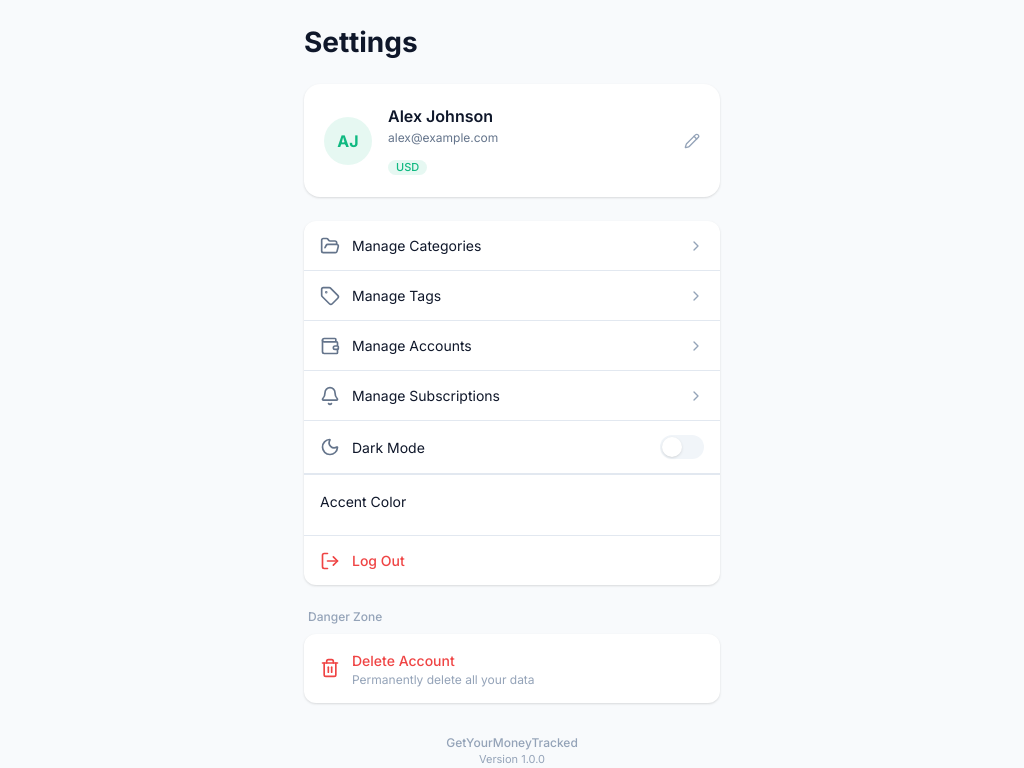
Test: SettingsPage › shows delete confirmation dialog when Delete Account is clicked
This screenshot has width=1024, height=768.
Click the button with test id "delete-account-btn". click: [403, 660]
box: [304,634,720,703]
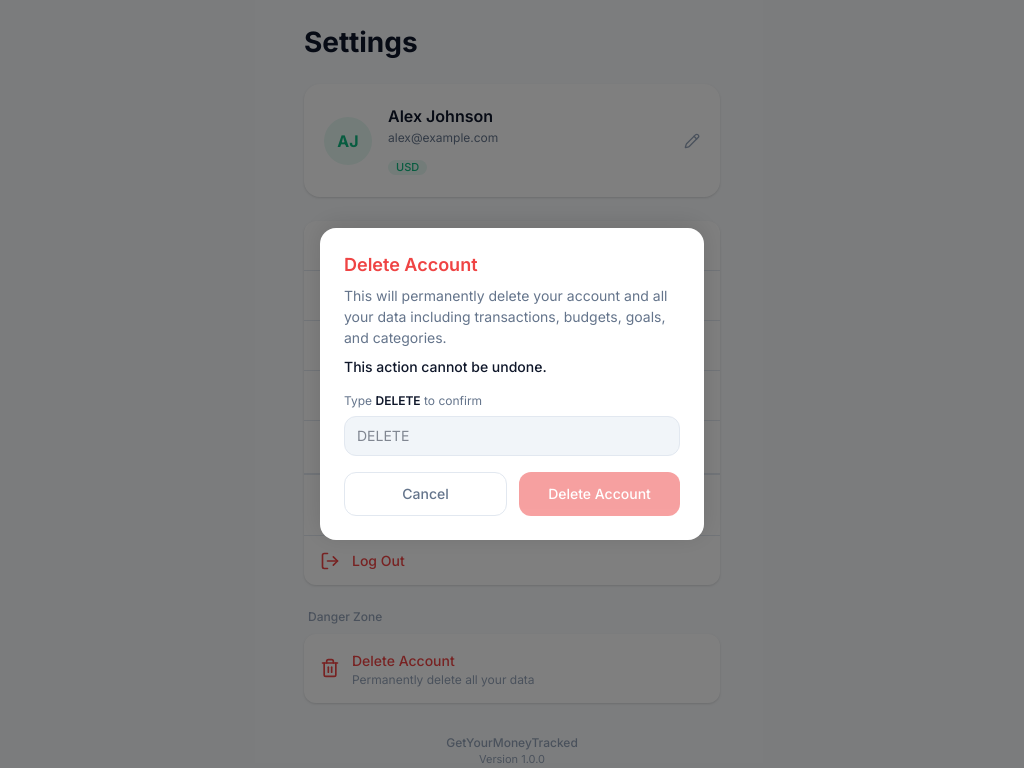
Now the dialog with test id "delete-confirm-dialog" is shown, box [320,228,704,540]
Now the dialog with test id "delete-confirm-dialog" shows "Delete Account", box [344,254,478,275]
Now the dialog with test id "delete-confirm-dialog" shows "cannot be undone", box [344,358,547,375]
